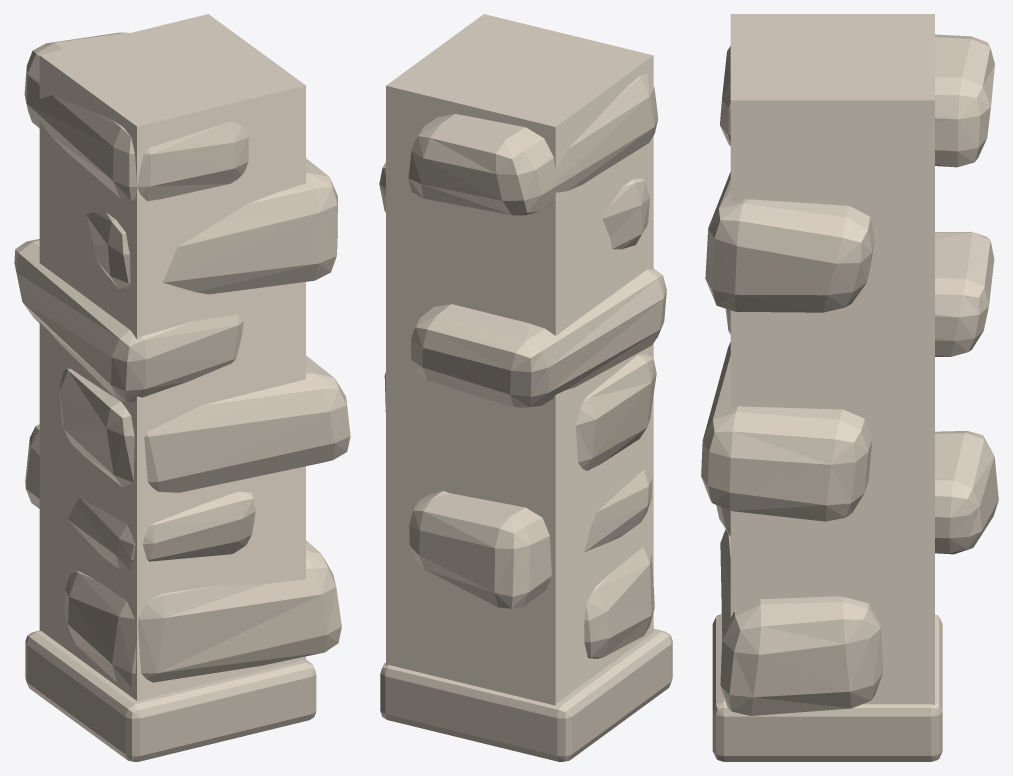
The model's file is SM_VK_Corner_StoneUp.fbx.
The picture shows the model from 3 angles, left to right: view 1: azimuth 30°, elevation 25°; view 2: azimuth 150°, elevation 25°; view 3: azimuth 270°, elevation 25°; orthographic projection. The views are drawn at different scales.
Parts seen in each view (by area): view 1: SM_VK_Corner_StoneUp.001; view 2: SM_VK_Corner_StoneUp.001; view 3: SM_VK_Corner_StoneUp.001.
Part boxes in pixels (x1,y1,x2,y2): SM_VK_Corner_StoneUp.001: [14, 14, 350, 761]; SM_VK_Corner_StoneUp.001: [379, 14, 672, 761]; SM_VK_Corner_StoneUp.001: [701, 14, 998, 761].
Size of the model in its own units: 1.11 by 2.86 by 1.16.
